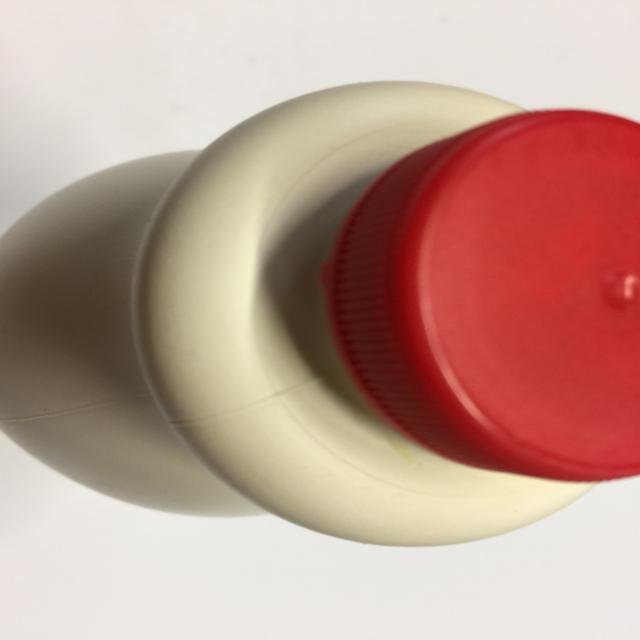plastic: (142, 75, 640, 550)
